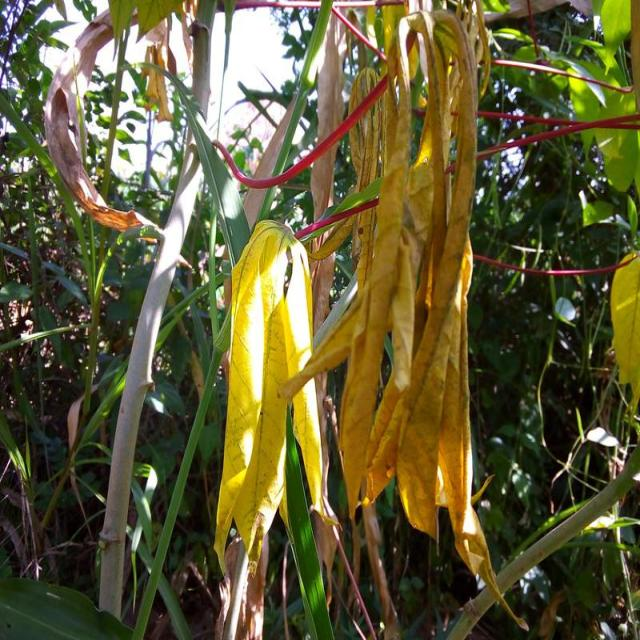cassava leaf: (281, 8, 528, 630), (213, 217, 334, 577)
